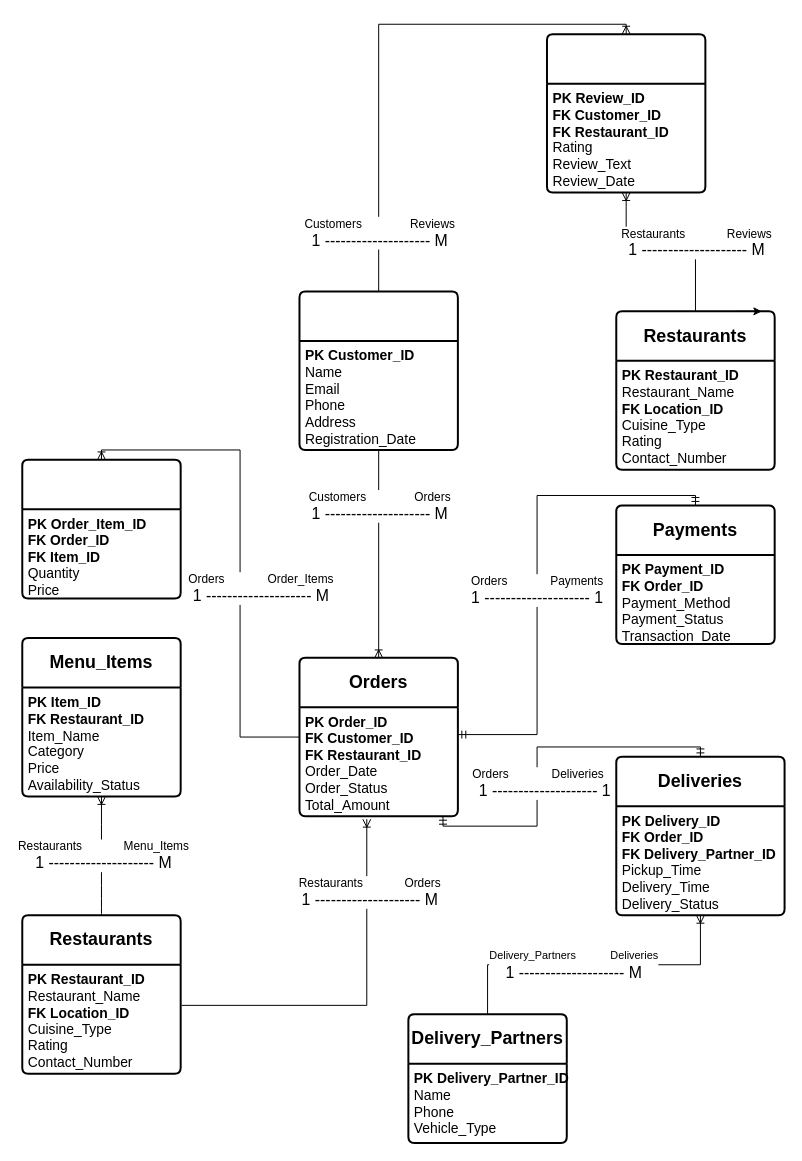
Some shapes in this 802 by 1161 pixel diagram are drawn without their labels. The shapes that lost their labels are listed below. From the top down, each one's box as (x1, y1, x2, y2) in pixels, then its label:
(545, 33, 706, 193): Reviews
(298, 290, 458, 450): Customers
(21, 458, 181, 599): Order_Items
